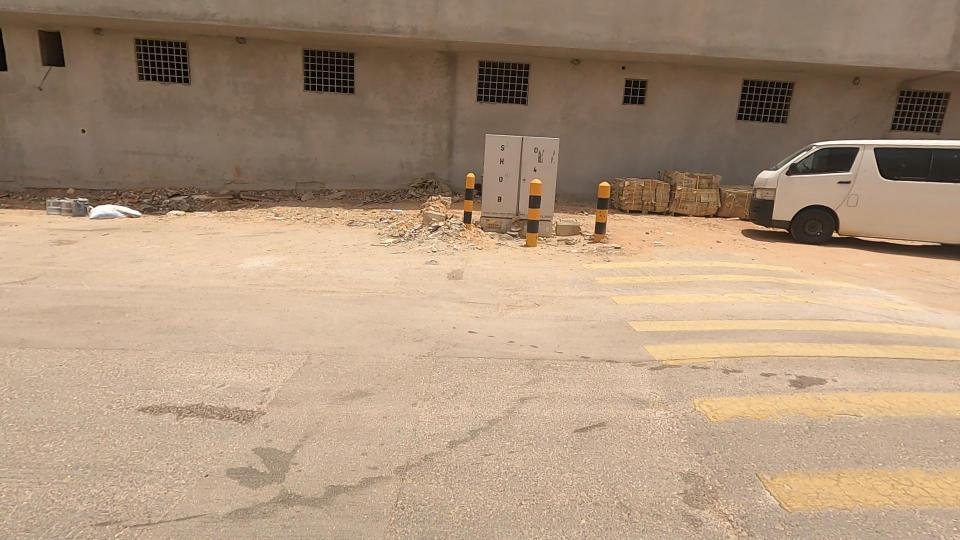GARBAGE: (120, 159, 265, 251), (42, 155, 177, 253)
